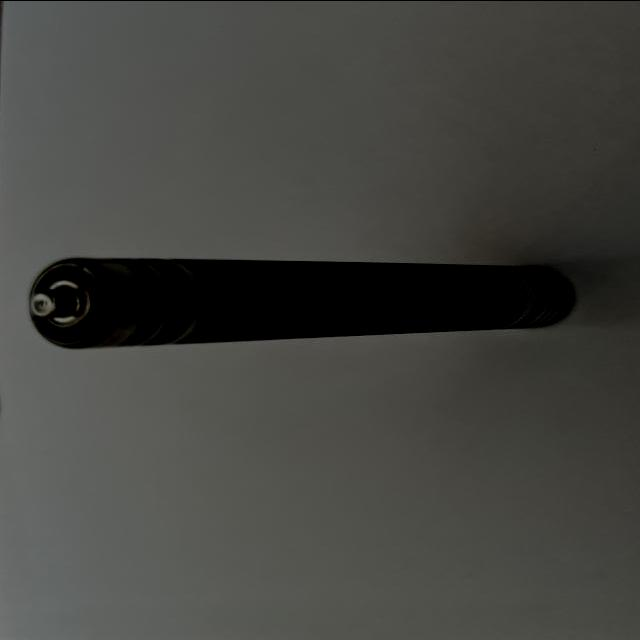AAA: (27, 255, 574, 352)
